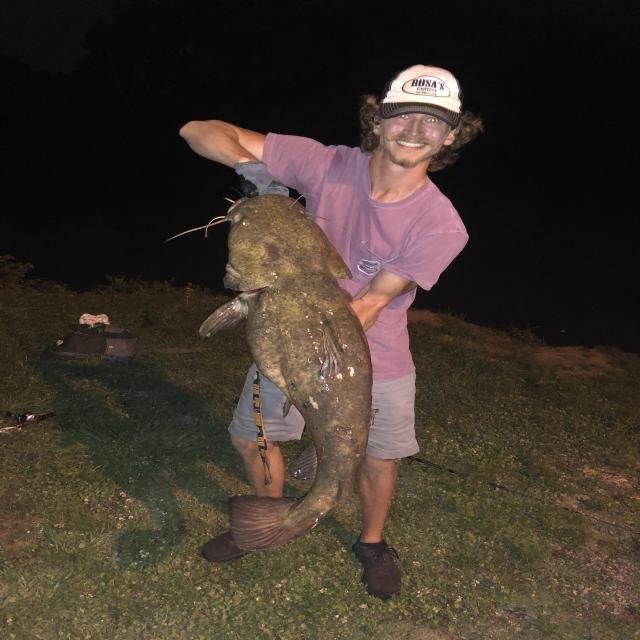Catfish - Flathead: (200, 194, 372, 550)
